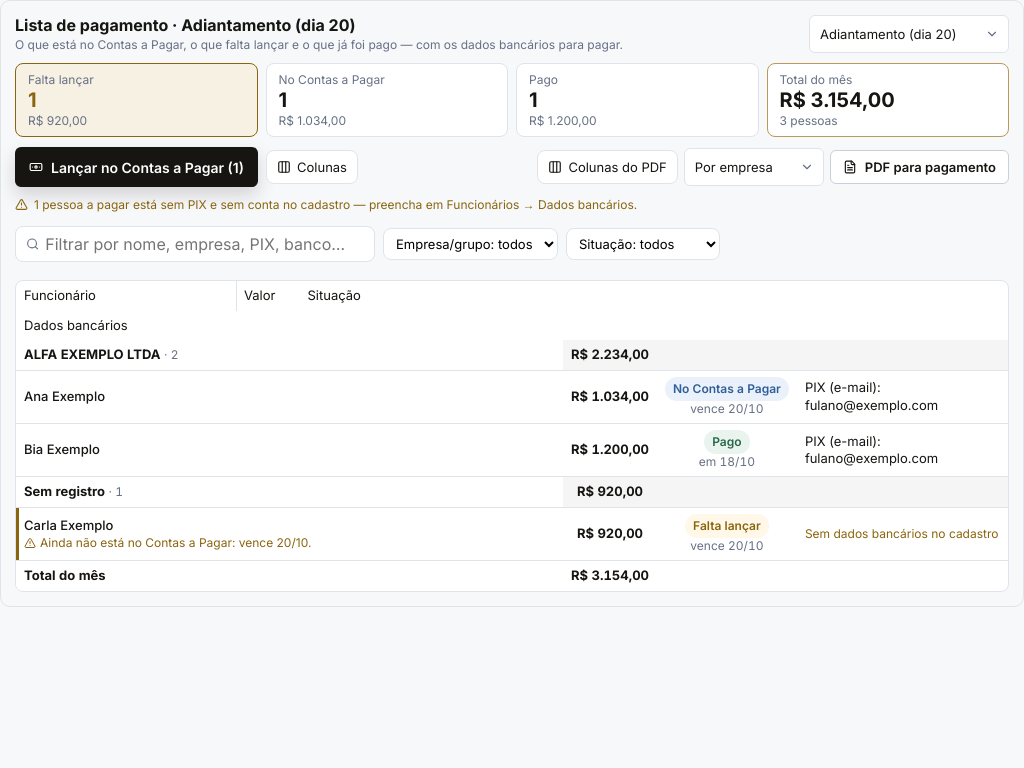
Test: lançar pede confirmação com nomes e valores; só grava ao confirmar
Click the button "Lançar no Contas a Pagar (1)".
click(136, 167)  # box 15,147 -> 258,187
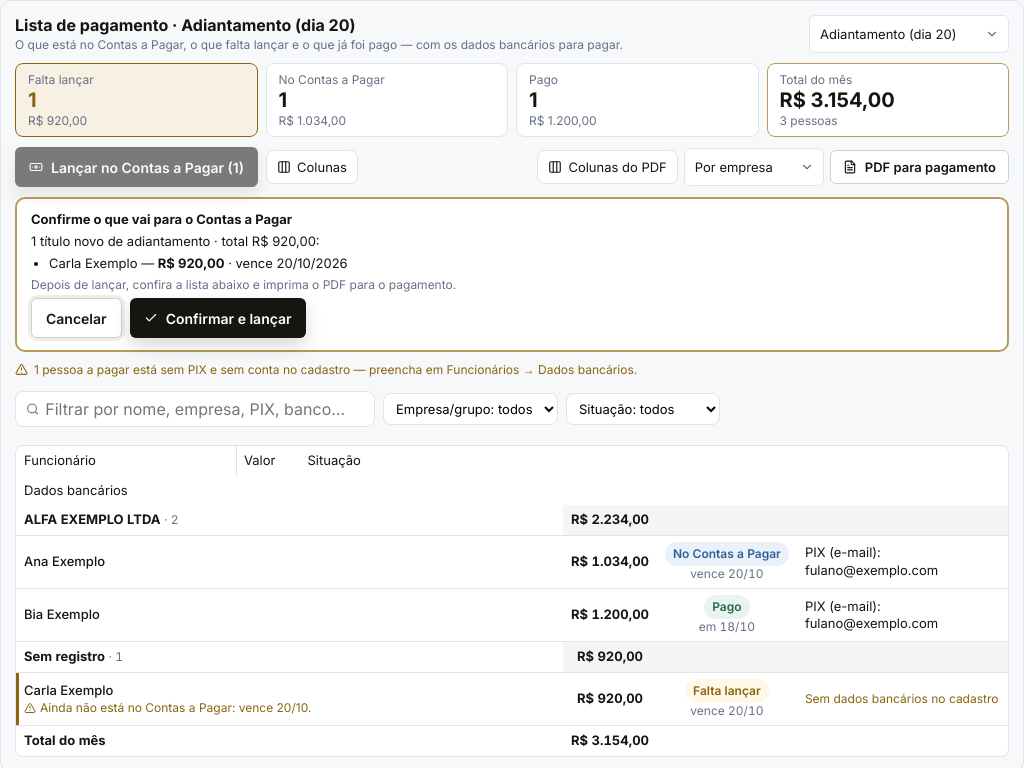
Check: the button "Cancelar" is shown, box 31,298 -> 122,338
Click the button "Confirmar e lançar".
click(218, 318)  # box 130,298 -> 306,338
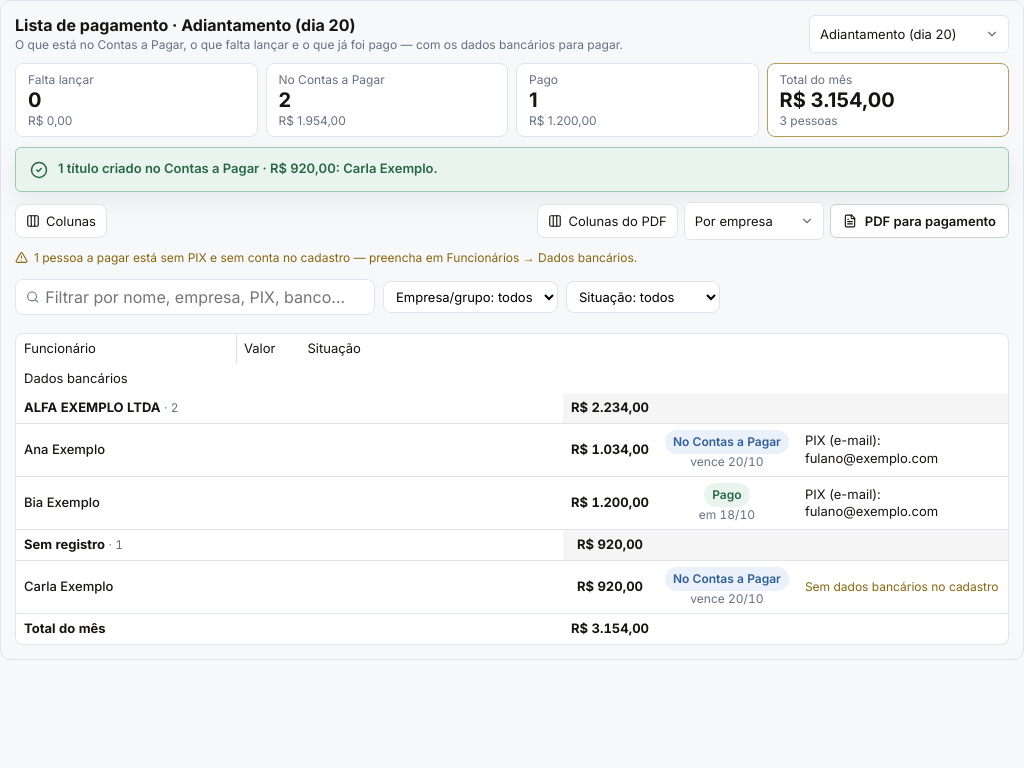
Check: the button "Lançar no Contas a Pagar" is gone
